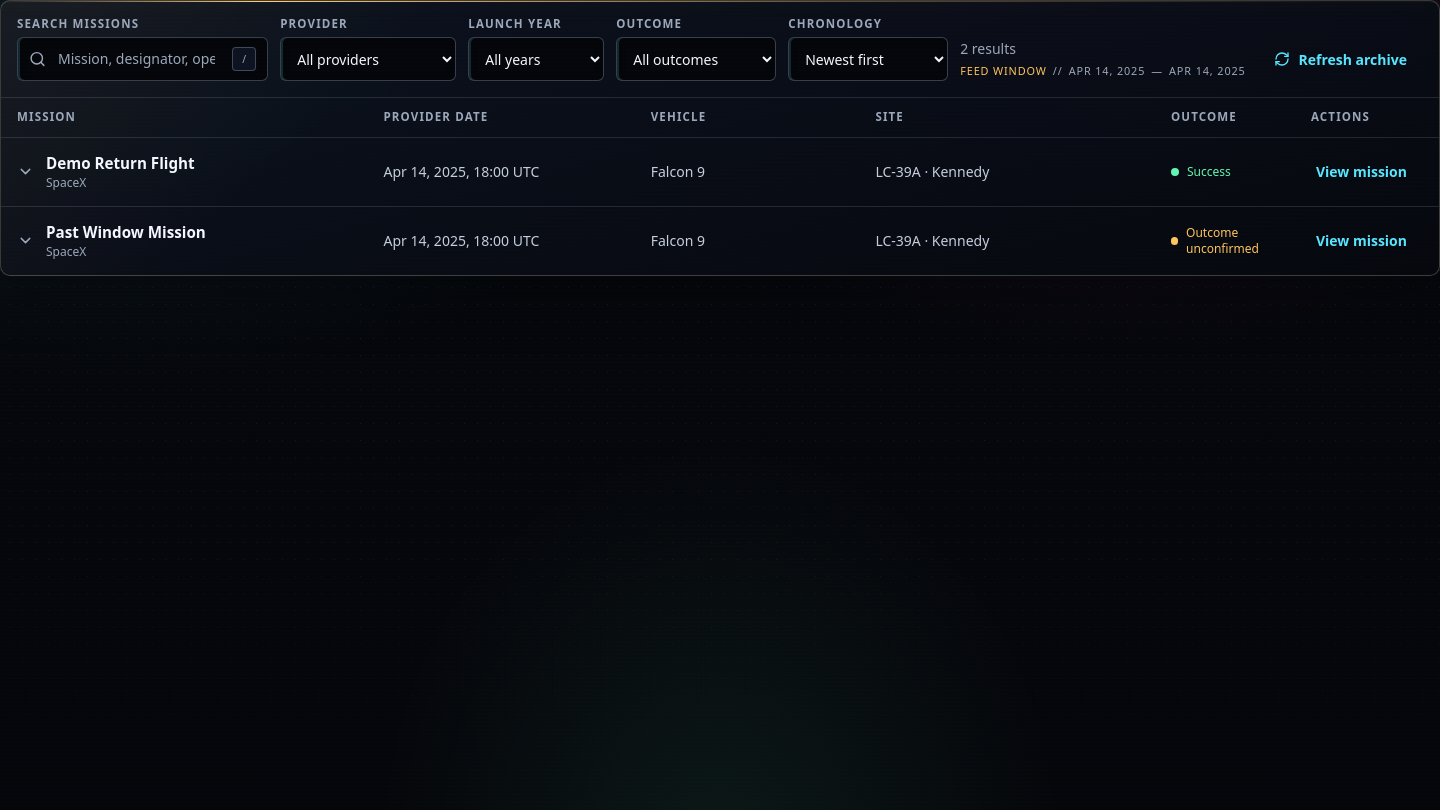
PastLaunches › marks and filters past missions whose outcomes remain unconfirmed
Check: the text "Past Window Mission" shows "Outcome unconfirmed", box [17,219,1299,263]
Check: the text "Past Window Mission" does not show "Go for Launch", box [1,207,1439,275]
Select "Unconfirmed" in the dropdown labelled "Outcome" at (696,59), box [616,37,776,81]
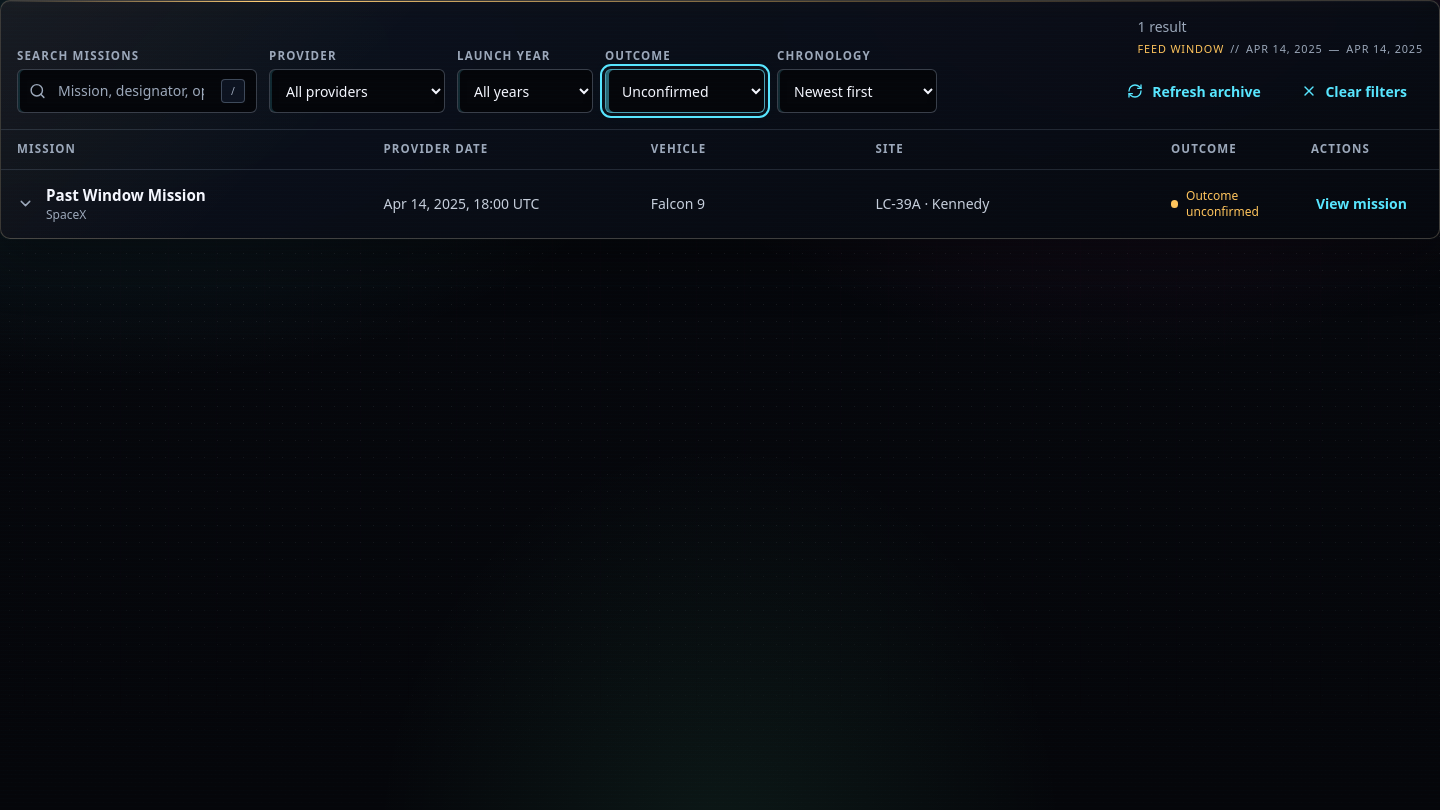
Check: the text "Past Window Mission" is shown, box [46,185,206,205]
Check: the button "Demo Return Flight" is gone
